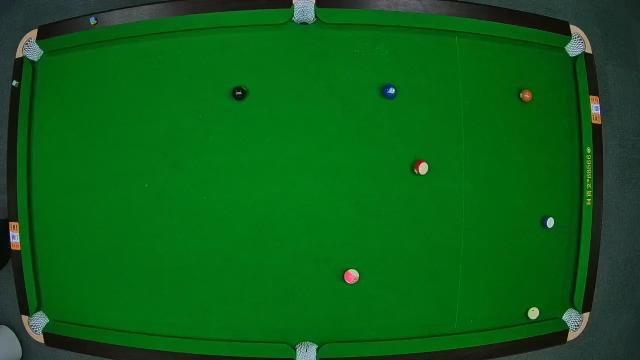bag1: (22, 38, 44, 60)
bag2: (291, 0, 317, 26)
bag3: (566, 29, 588, 57)
bag4: (29, 310, 49, 334)
bag5: (294, 340, 320, 360)
bag6: (563, 308, 585, 332)
ball0: (526, 304, 540, 320)
ball10: (541, 216, 557, 231)
ball11: (413, 159, 429, 177)
ball12: (343, 269, 359, 285)
ball2: (382, 84, 396, 99)
ball7: (520, 87, 532, 103)
ball8: (232, 86, 246, 102)
